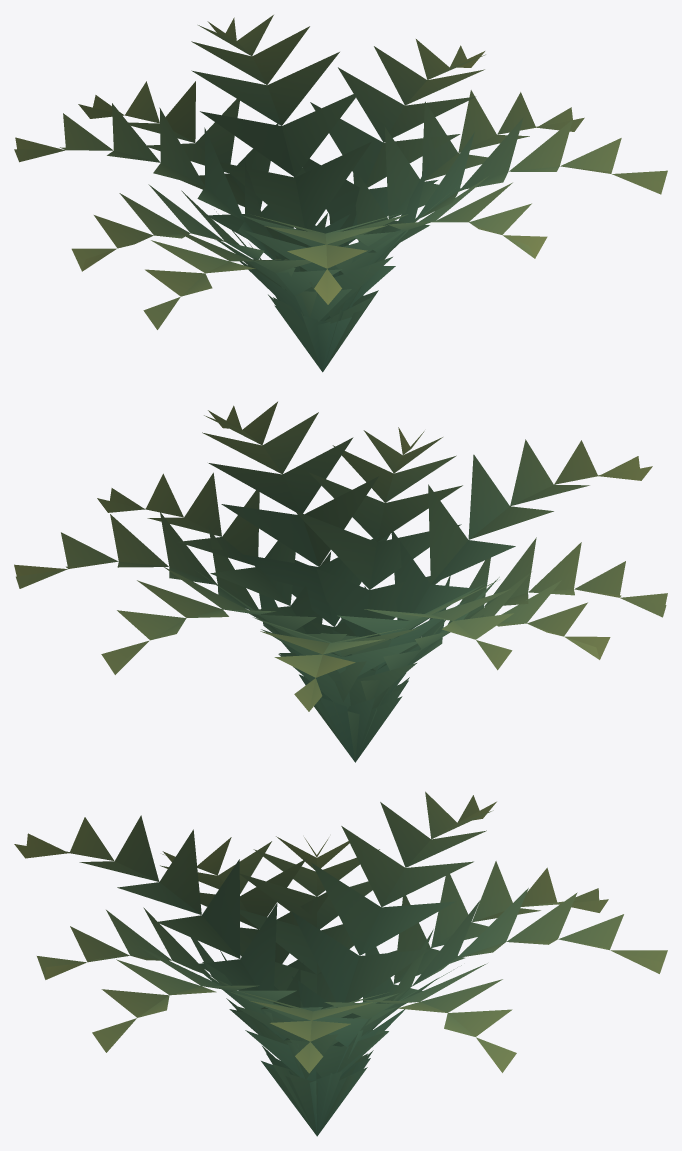
File: fern.glb
3 views of the same model, one above another, from view 1: azimuth 30°, elevation 25°; view 2: azimuth 150°, elevation 25°; view 3: azimuth 270°, elevation 25° (orthographic).
Visible parts, largest first — view 1: fern; view 2: fern; view 3: fern.
Boxes of the visible parts, <box> form: fern: <box>14,15,667,372</box>; fern: <box>14,401,667,762</box>; fern: <box>14,791,667,1136</box>.
Size of the model in its own units: 1.08 by 0.5113 by 1.21.
